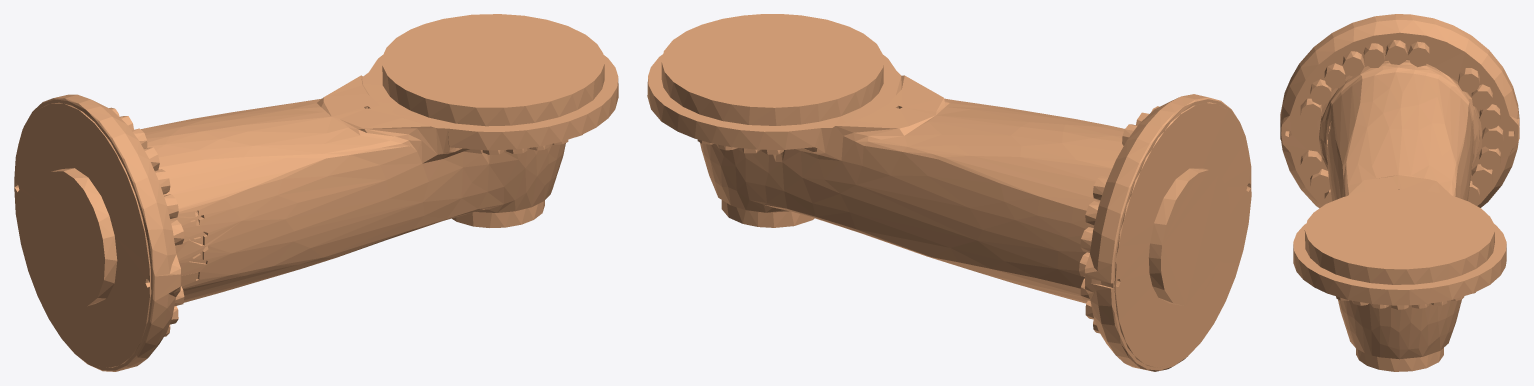
3 renders of one model, left to right at view 1: azimuth 30°, elevation 25°; view 2: azimuth 150°, elevation 25°; view 3: azimuth 270°, elevation 25°, orthographic. The views are drawn at different scales.
Visible parts, largest first — view 1: /Link_4/Link_4_002-mesh/0; view 2: /Link_4/Link_4_002-mesh/0; view 3: /Link_4/Link_4_002-mesh/0.
Boxes of the visible parts, x1,y1,x2,y2 form: /Link_4/Link_4_002-mesh/0: (14,14,618,371); /Link_4/Link_4_002-mesh/0: (647,14,1251,371); /Link_4/Link_4_002-mesh/0: (1280,14,1519,371).
Bounding box in the file's own units: 0.4414 × 0.2021 × 0.2021.
